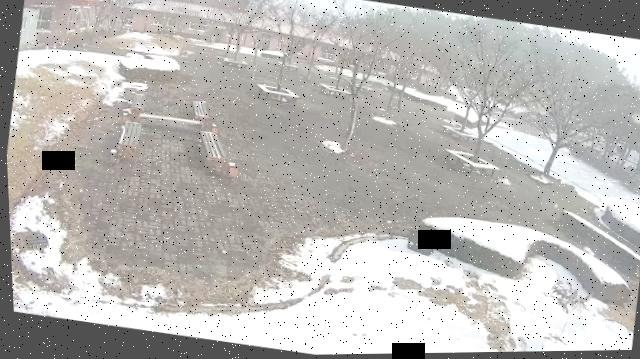bag: (403, 228, 437, 258)
